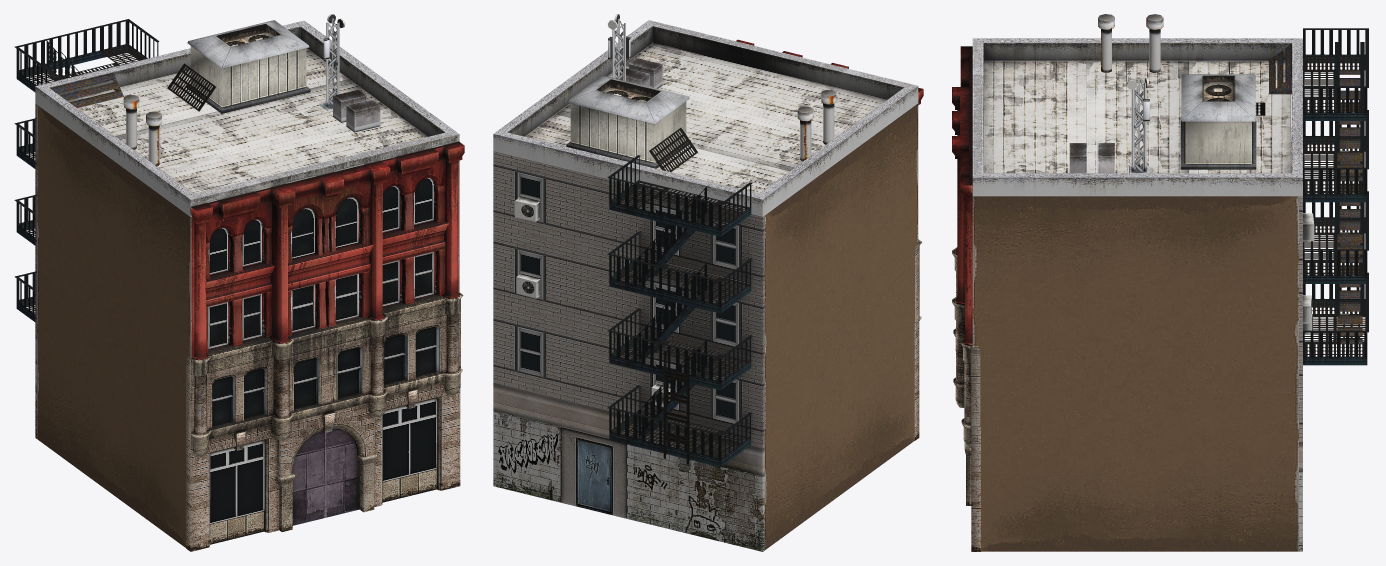
3 renders of one model, left to right at view 1: azimuth 30°, elevation 25°; view 2: azimuth 150°, elevation 25°; view 3: azimuth 270°, elevation 25°, orthographic. The views are drawn at different scales.
Parts seen in each view (by area): view 1: genericbuilding001; view 2: genericbuilding001; view 3: genericbuilding001.
Boxes of the visible parts, x1=… form: genericbuilding001: x1=14, y1=14, x2=464, y2=551; genericbuilding001: x1=493, y1=14, x2=923, y2=551; genericbuilding001: x1=952, y1=14, x2=1368, y2=551.
Size of the model in its own units: 763 by 1143 by 967.
Materials: 1 (1 with a texture image).
